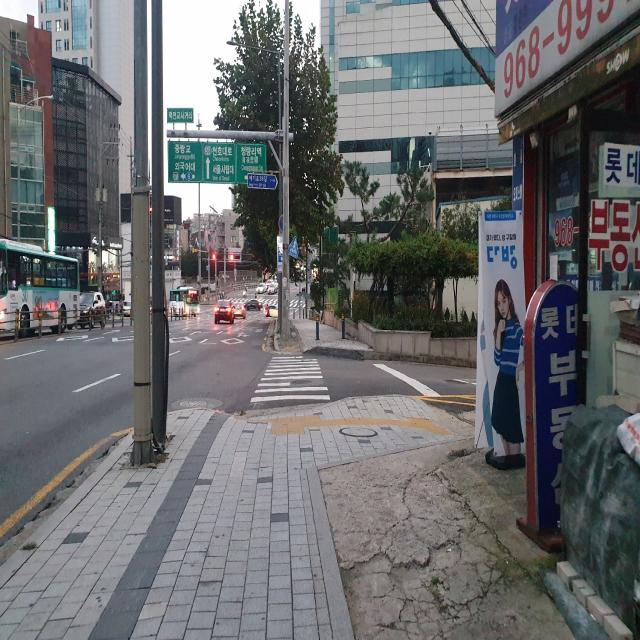횡단보도: (250, 354, 330, 404)
